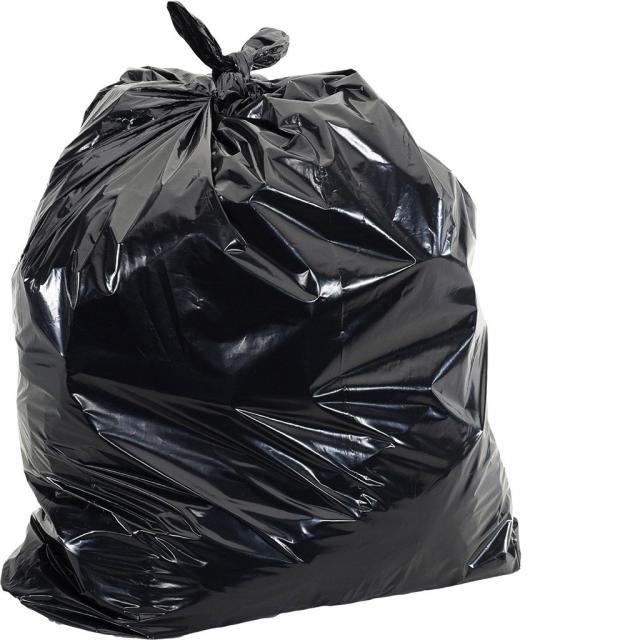Vinyl: (3, 11, 524, 640)
